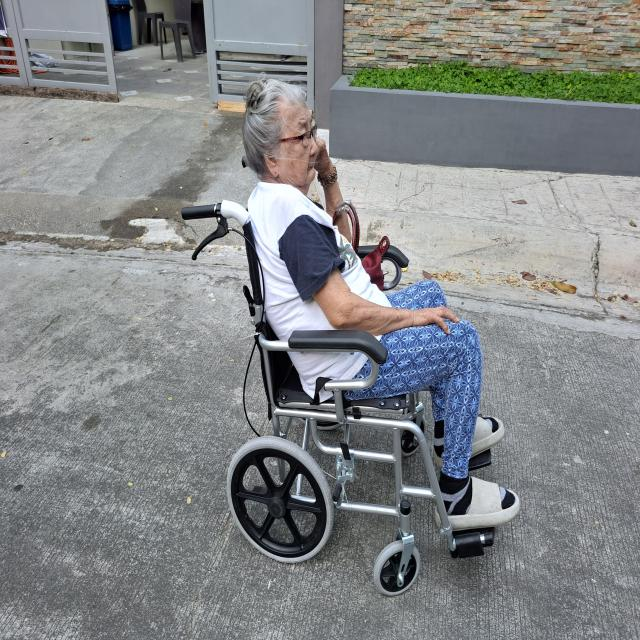wheelchairs: (179, 198, 512, 600)
